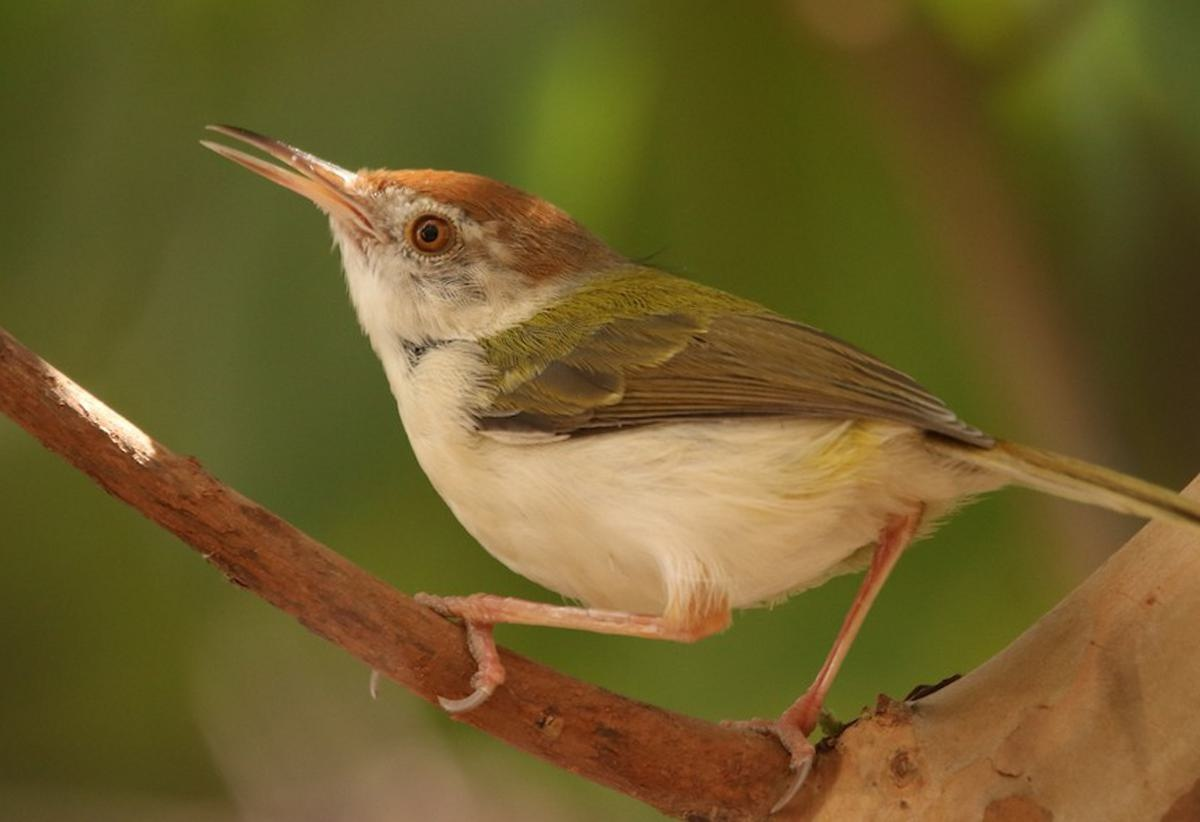tailorbird: (171, 69, 1077, 722)
